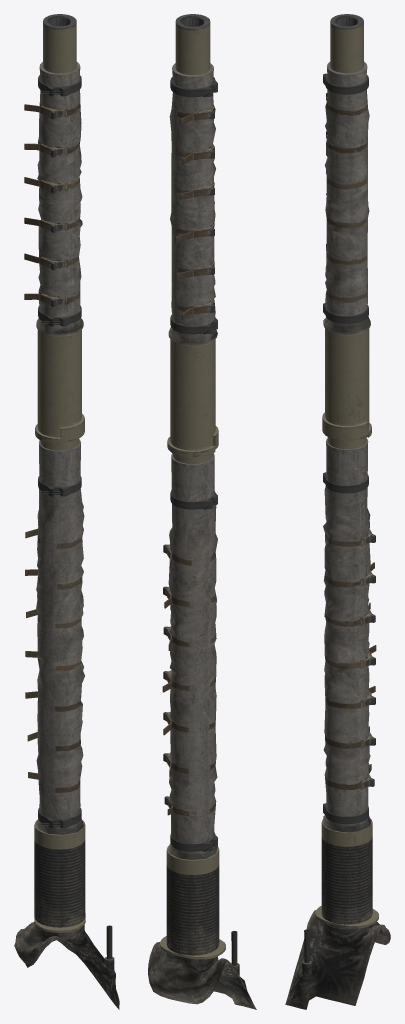
Rendered from Gun_01.glb.
3 views of the same model, side by side, from view 1: azimuth 90°, elevation 25°; view 2: azimuth 150°, elevation 25°; view 3: azimuth 330°, elevation 25° (orthographic). The views are drawn at different scales.
Visible parts, largest first — view 1: set_0_group_0; view 2: set_0_group_0; view 3: set_0_group_0.
Part boxes in pixels (left/top/right/bottom): set_0_group_0: left=14, top=14, right=119, bottom=1009; set_0_group_0: left=148, top=14, right=256, bottom=1009; set_0_group_0: left=285, top=14, right=390, bottom=1009.
Bounding box in the file's own units: 0.4083 × 5.41 × 0.5317.
1 material, 1 textured.
